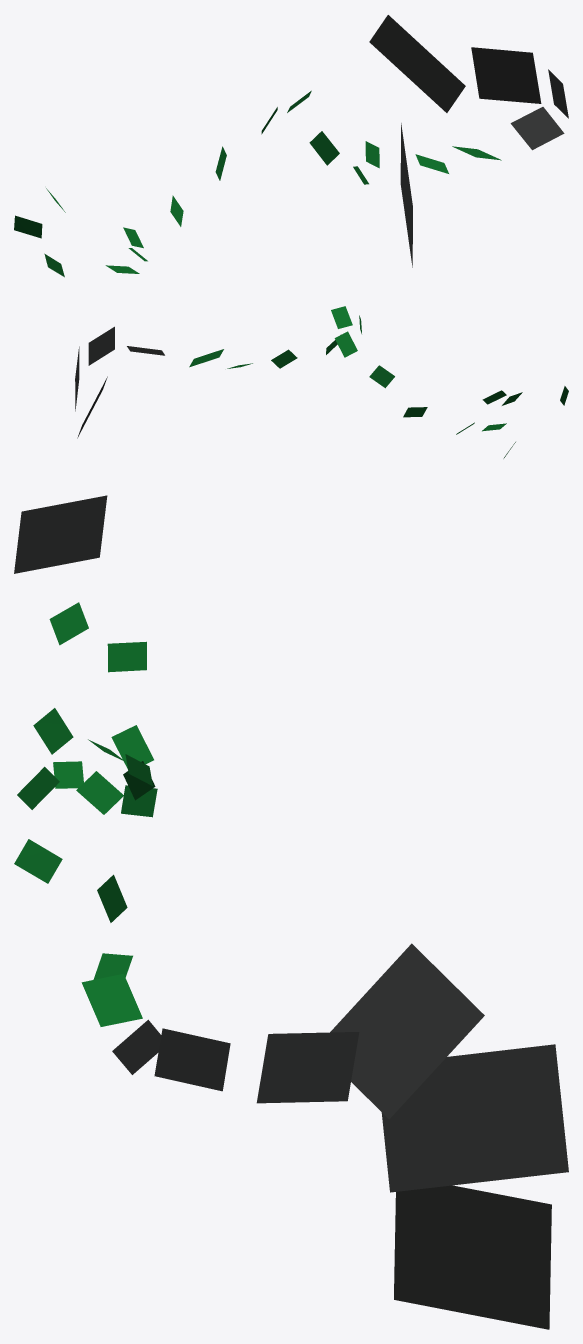
File: card.FBX
3 renders of one model, top to bottom at view 1: azimuth 30°, elevation 25°; view 2: azimuth 150°, elevation 25°; view 3: azimuth 270°, elevation 25°, orthographic. The views are drawn at different scales.
Visible parts, largest first — view 1: Object001, 007_0_7; view 2: Object001, 007_0_7; view 3: Object001, 007_0_7.
Boxes of the visible parts, <box> form: Object001: <box>369,15,568,267</box>; 007_0_7: <box>14,90,501,277</box>; Object001: <box>14,326,164,573</box>; 007_0_7: <box>189,306,568,458</box>; Object001: <box>112,943,568,1329</box>; 007_0_7: <box>14,602,157,1026</box>.
Bounding box in the file's own units: 41.16 × 20.45 × 24.65.
